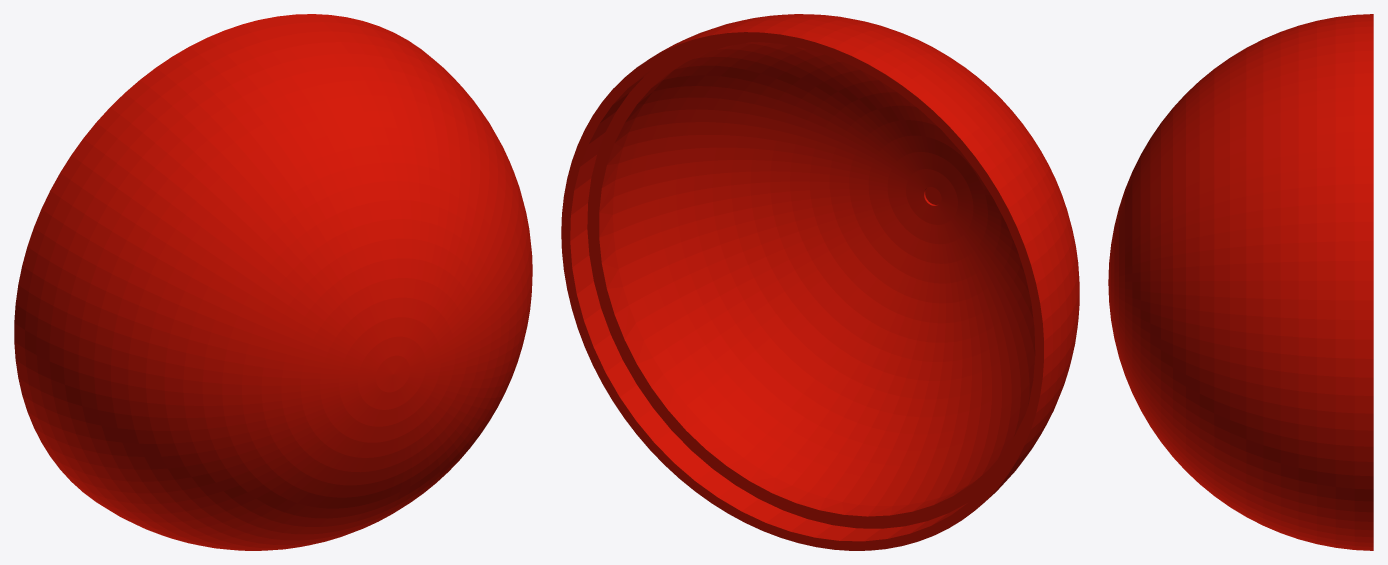
File: shell_joint_side.dae
3 views of the same model, side by side, from view 1: azimuth 30°, elevation 25°; view 2: azimuth 150°, elevation 25°; view 3: azimuth 270°, elevation 25° (orthographic). The views are drawn at different scales.
Visible parts, largest first — view 1: Shell_Joint_Side; view 2: Shell_Joint_Side; view 3: Shell_Joint_Side.
Part boxes in pixels (x1,y1,x2,y2): Shell_Joint_Side: (14,14,532,550); Shell_Joint_Side: (561,14,1079,550); Shell_Joint_Side: (1108,14,1373,550).
Bounding box in the file's own units: 0.0817 × 0.0404 × 0.0817.
